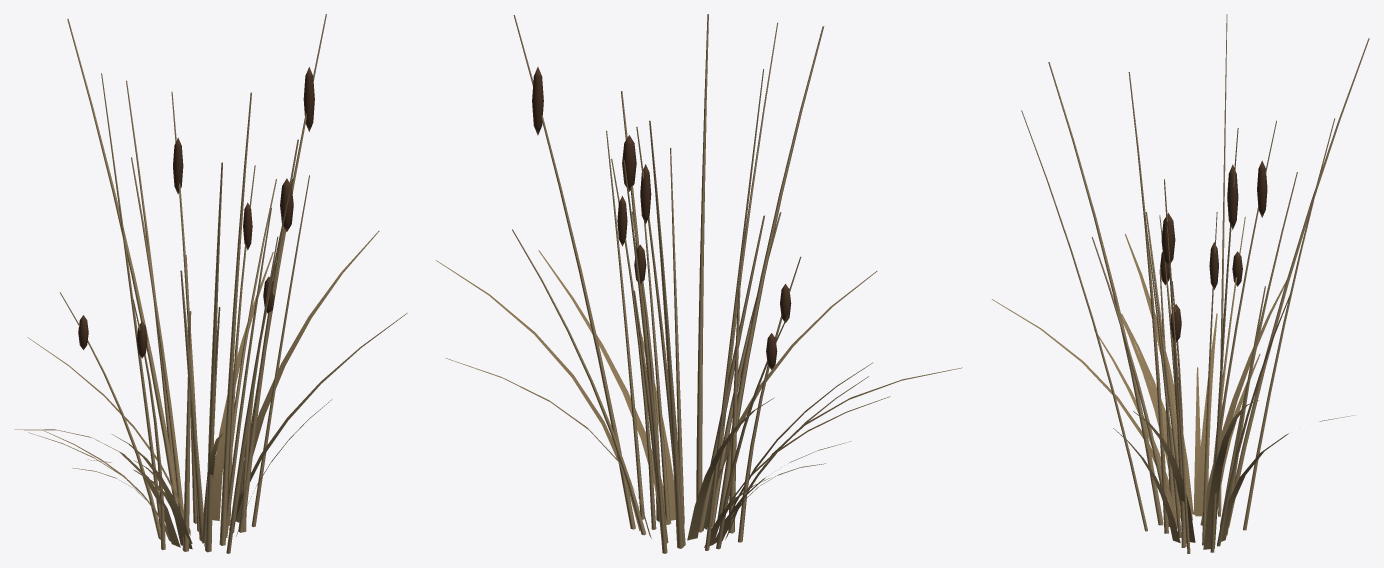
File: reed_clump_2.glb
3 renders of one model, left to right at view 1: azimuth 30°, elevation 25°; view 2: azimuth 150°, elevation 25°; view 3: azimuth 270°, elevation 25°, orthographic. The views are drawn at different scales.
Parts seen in each view (by area): view 1: ReedClump_Stalks_2, ReedClump_Stalks_0, ReedClump_Stalks_1, ReedClump_Blades_1, ReedClump_Blades_0, ReedClump_Heads_2, ReedClump_Blades_2, ReedClump_Heads_0, ReedClump_Heads_1; view 2: ReedClump_Stalks_0, ReedClump_Stalks_2, ReedClump_Stalks_1, ReedClump_Blades_1, ReedClump_Blades_2, ReedClump_Blades_0, ReedClump_Heads_2, ReedClump_Heads_0, ReedClump_Heads_1; view 3: ReedClump_Stalks_2, ReedClump_Stalks_0, ReedClump_Stalks_1, ReedClump_Blades_0, ReedClump_Blades_1, ReedClump_Blades_2, ReedClump_Heads_2, ReedClump_Heads_0, ReedClump_Heads_1.
Boxes of the visible parts, <box> form: ReedClump_Stalks_2: <box>171,91,298,553</box>; ReedClump_Stalks_0: <box>67,14,326,551</box>; ReedClump_Stalks_1: <box>60,80,309,541</box>; ReedClump_Blades_1: <box>134,231,379,549</box>; ReedClump_Blades_0: <box>14,337,190,547</box>; ReedClump_Heads_2: <box>173,137,293,250</box>; ReedClump_Blades_2: <box>72,313,407,543</box>; ReedClump_Heads_0: <box>137,67,314,358</box>; ReedClump_Heads_1: <box>78,276,274,349</box>; ReedClump_Stalks_0: <box>513,15,801,550</box>; ReedClump_Stalks_2: <box>611,14,824,529</box>; ReedClump_Stalks_1: <box>512,130,788,553</box>; ReedClump_Blades_1: <box>436,260,877,538</box>; ReedClump_Blades_2: <box>538,250,890,540</box>; ReedClump_Blades_0: <box>687,362,962,547</box>; ReedClump_Heads_2: <box>617,135,651,246</box>; ReedClump_Heads_0: <box>532,67,791,322</box>; ReedClump_Heads_1: <box>634,244,777,369</box>; ReedClump_Stalks_2: <box>1021,62,1276,546</box>; ReedClump_Stalks_0: <box>1091,14,1369,552</box>; ReedClump_Stalks_1: <box>1145,118,1335,553</box>; ReedClump_Blades_0: <box>1121,234,1286,525</box>; ReedClump_Blades_1: <box>991,299,1355,549</box>; ReedClump_Blades_2: <box>1113,313,1200,542</box>; ReedClump_Heads_2: <box>1161,160,1267,289</box>; ReedClump_Heads_0: <box>1160,164,1238,285</box>; ReedClump_Heads_1: <box>1170,251,1242,342</box>.
Size of what is drawn, in the model's own units: 1.7 by 1.77 by 1.28.
